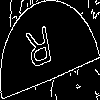R: (25, 24, 55, 79)
